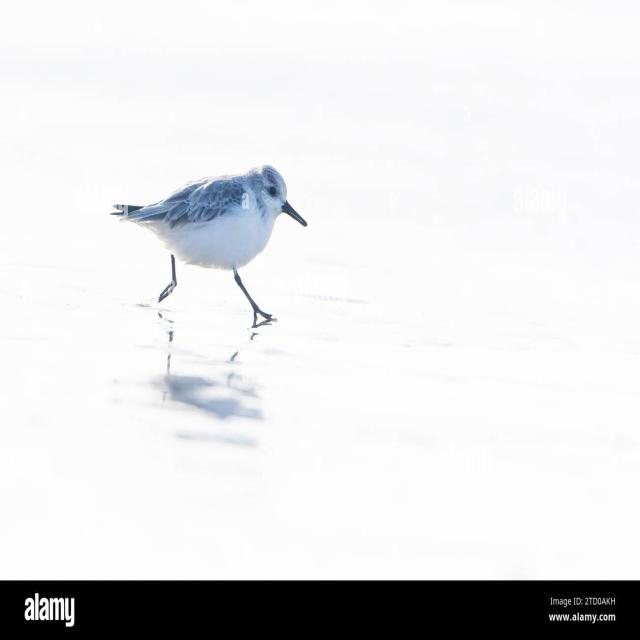Sandpiper: (103, 158, 307, 345)
